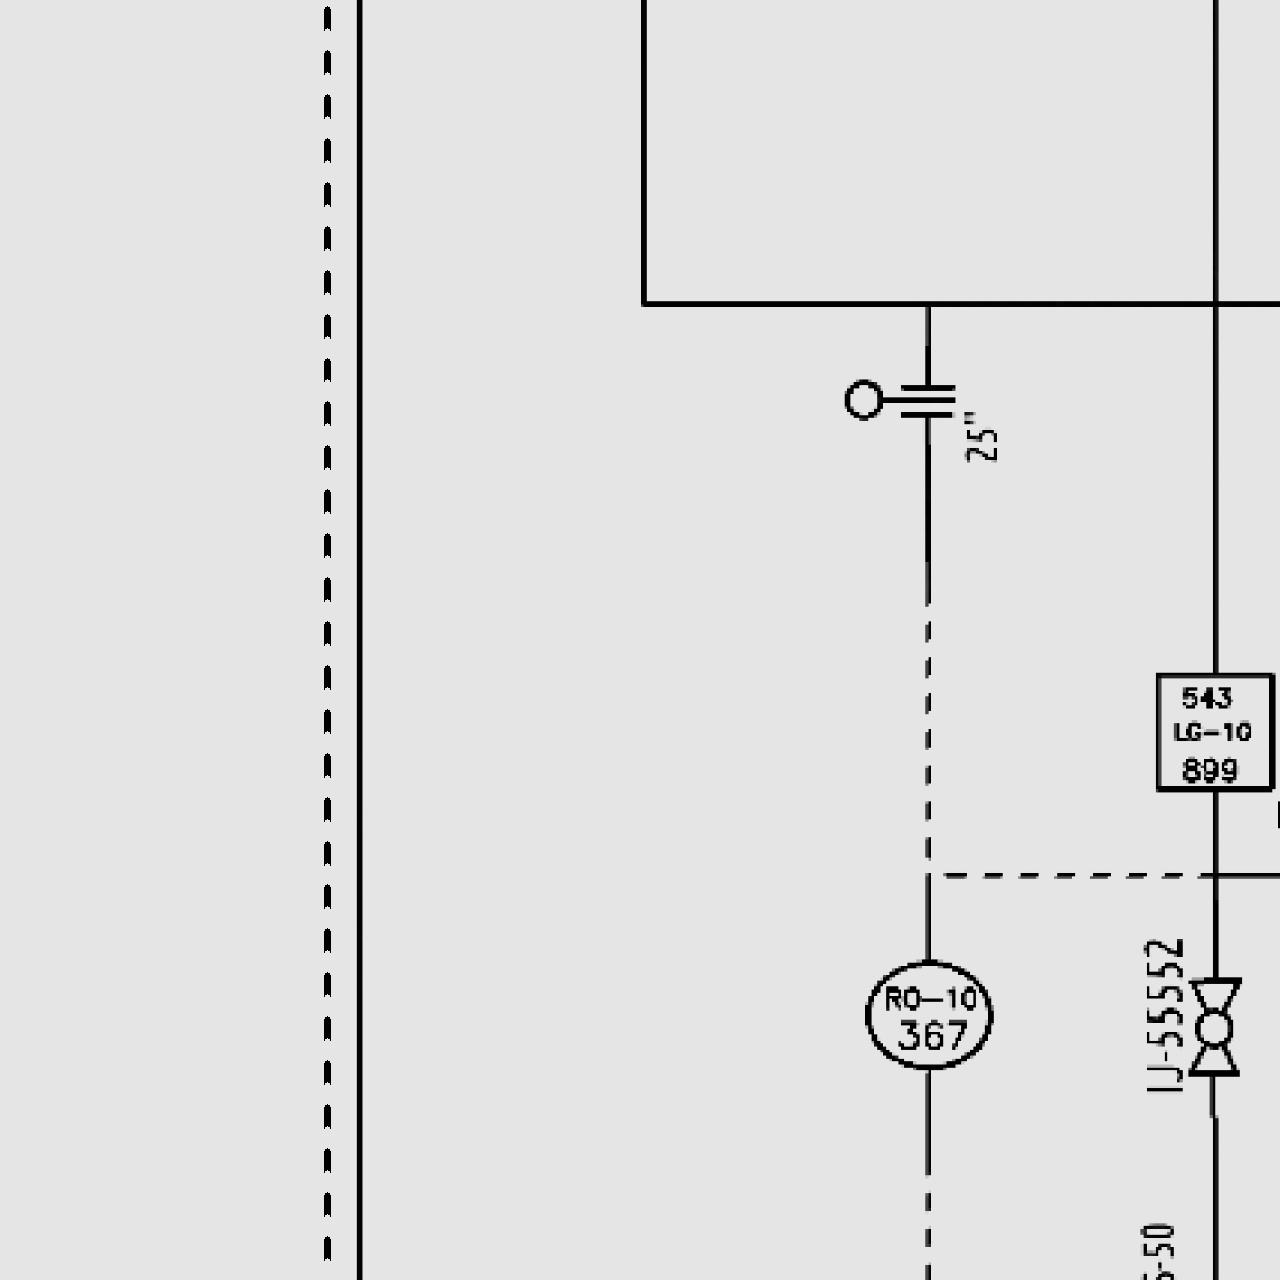Control-Panel: (860, 947, 996, 1082)
